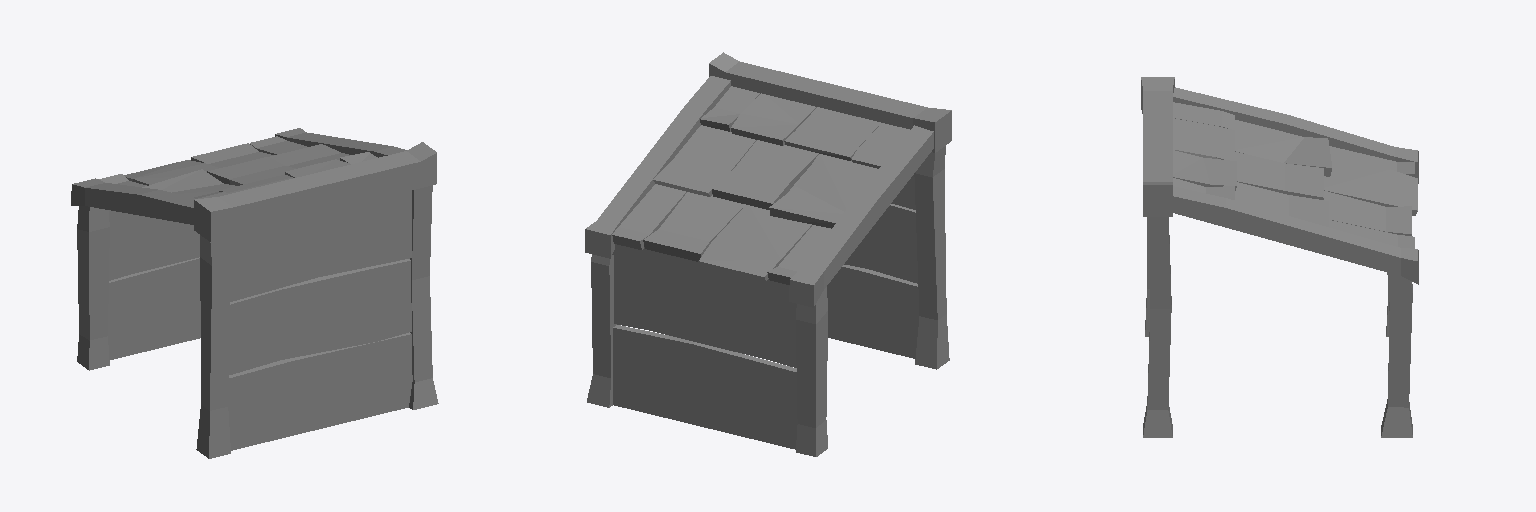
File: canopy.obj
3 views of the same model, side by side, from view 1: azimuth 30°, elevation 25°; view 2: azimuth 150°, elevation 25°; view 3: azimuth 270°, elevation 25° (orthographic).
Size of the model in its own units: 2.27 by 2.37 by 2.37.